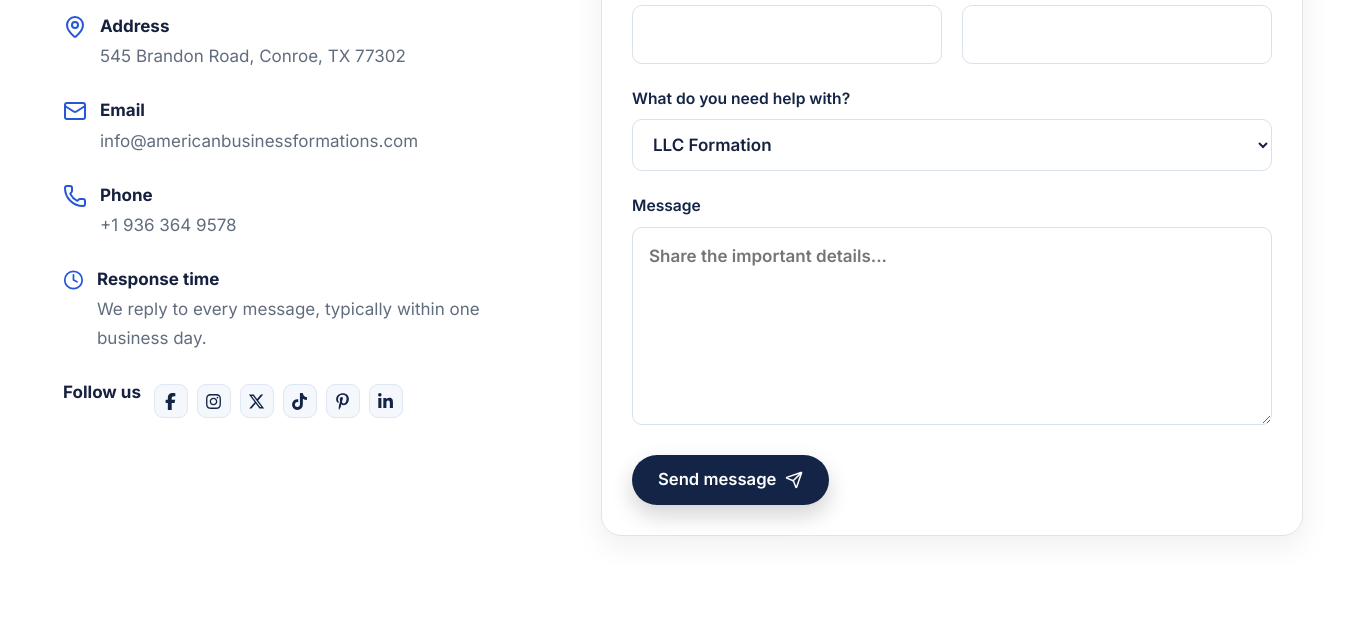
Contact page › blocks submission and shows errors when required fields are invalid
The image size is (1366, 620).
(page scrolled)
Click the button "Send message".
click(731, 480)  # box x1=632 y1=455 x2=830 y2=505
(page scrolled)
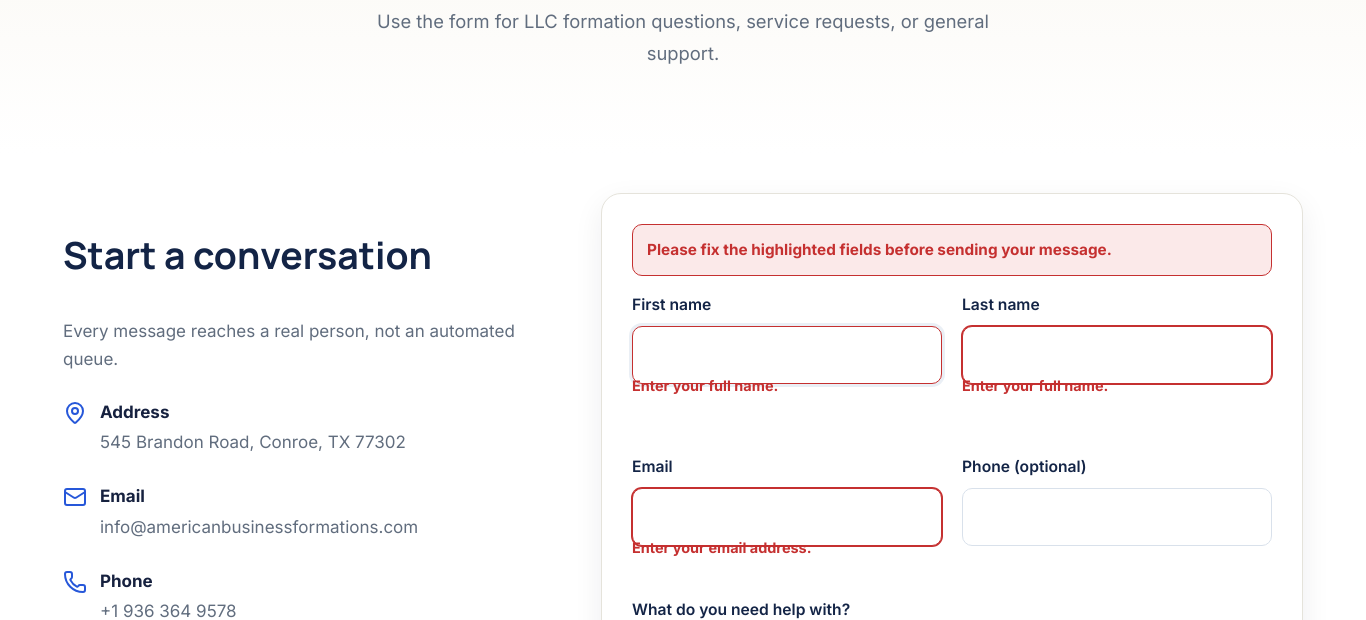
Check: the text "Enter your full name." below "First name" is shown, box x1=632 y1=377 x2=778 y2=394
Check: the text "Enter your email address." is shown, box x1=632 y1=539 x2=812 y2=556
